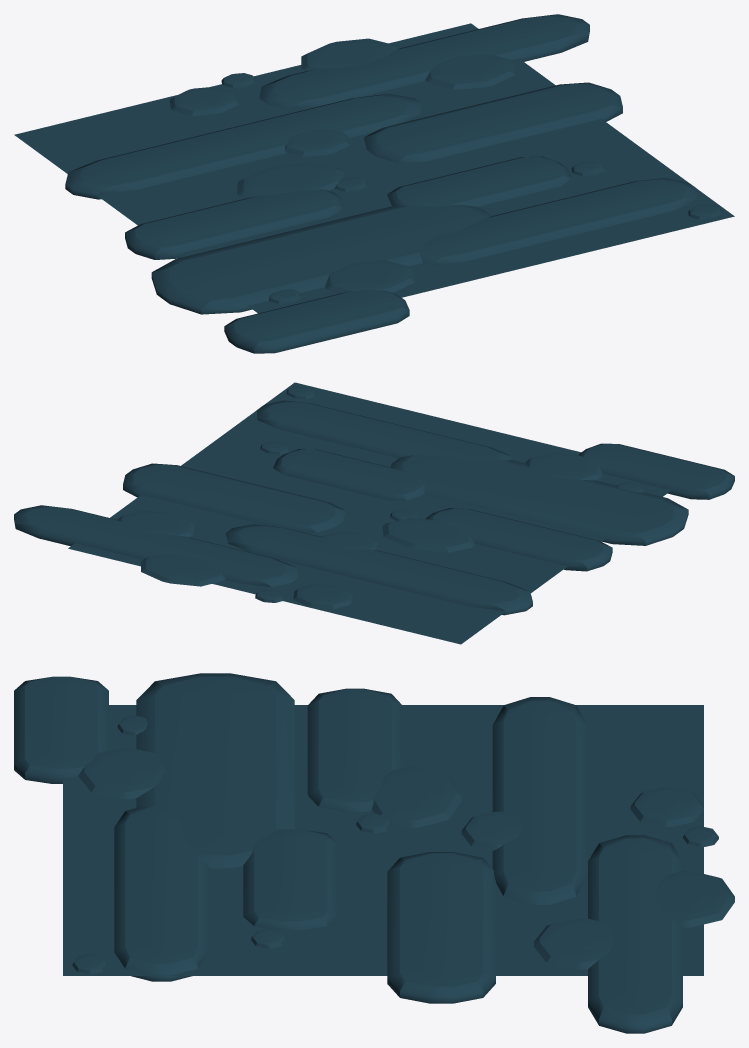
File: Ground_Tile_1.fbx
The picture shows the model from 3 angles, top to bottom: view 1: azimuth 30°, elevation 25°; view 2: azimuth 150°, elevation 25°; view 3: azimuth 270°, elevation 25°; orthographic projection. The views are drawn at different scales.
Parts seen in each view (by area): view 1: Ground_Tile_1; view 2: Ground_Tile_1; view 3: Ground_Tile_1.
Boxes of the visible parts, x1,y1,x2,y2 form: Ground_Tile_1: (14, 14, 734, 353); Ground_Tile_1: (14, 382, 734, 644); Ground_Tile_1: (14, 673, 734, 1033).
Size of the model in its own units: 8.94 by 0.1529 by 7.72.
